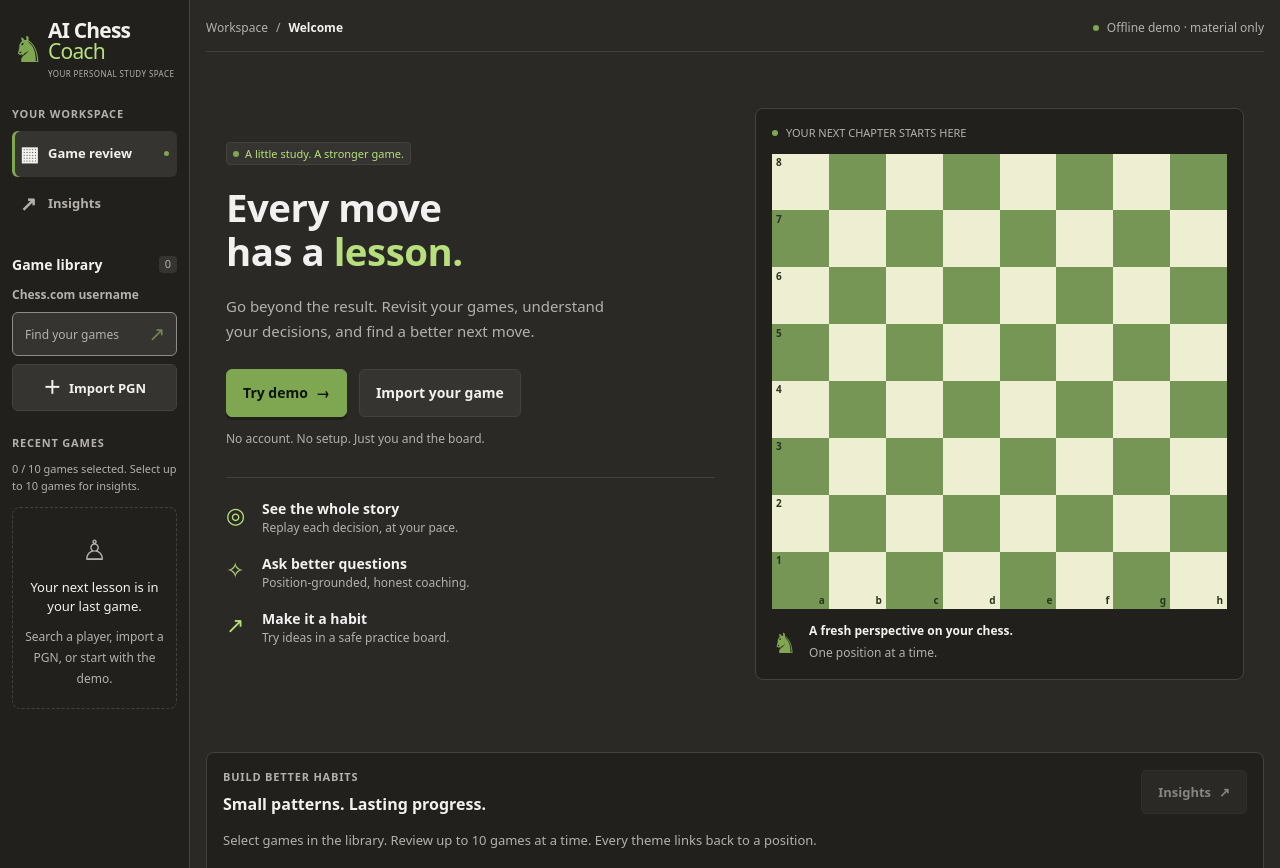
it: complete workspace › opens the welcome and demo without external assets or configuration
The width and height of the screenshot is (1280, 868).
Click the button "Try demo →". click: [286, 393]
box: [226,369,347,417]
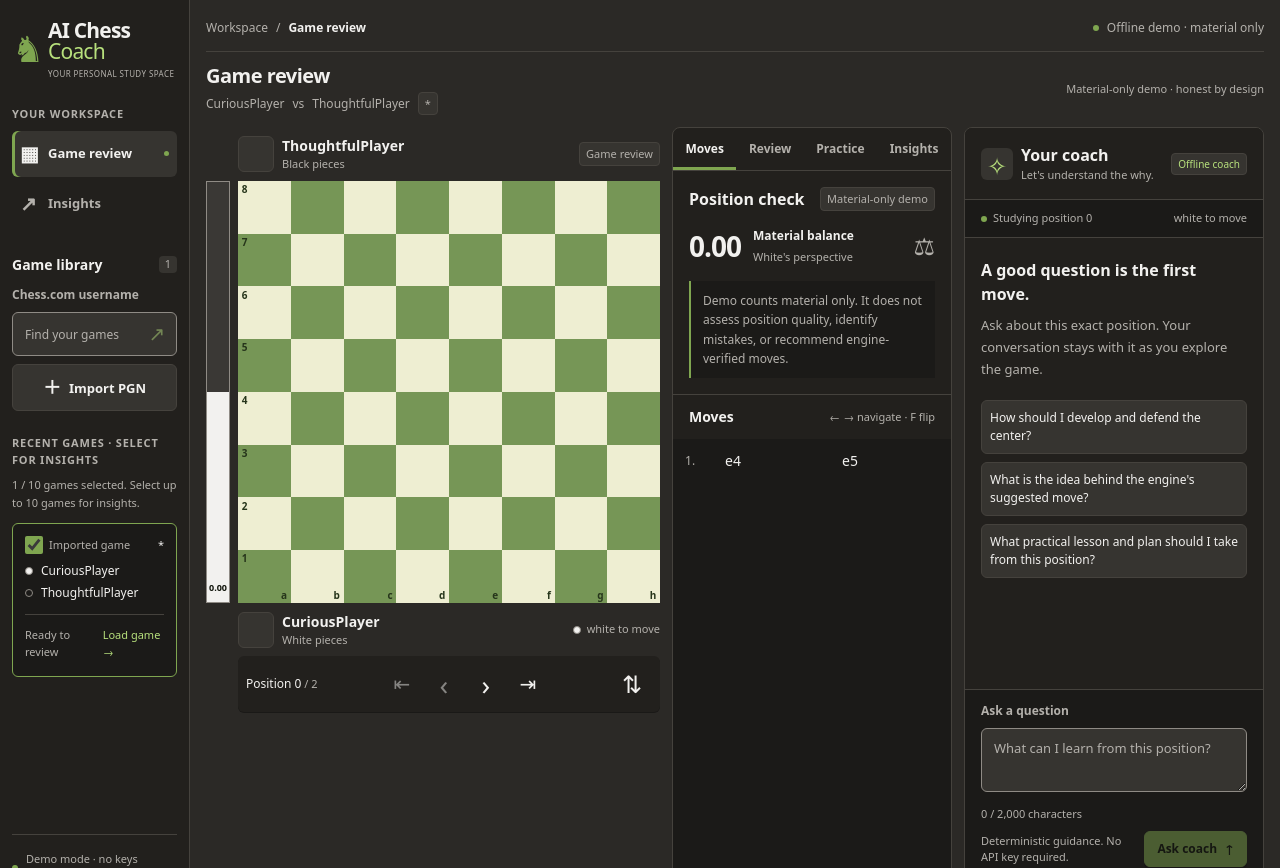
Expected: the text "Position 0" is shown, [246,675,302,692]
Expected: the button named "Previous move" is disabled, [424,664,464,704]
Expected: the text "Material-only demo" is shown, [820,187,935,211]
